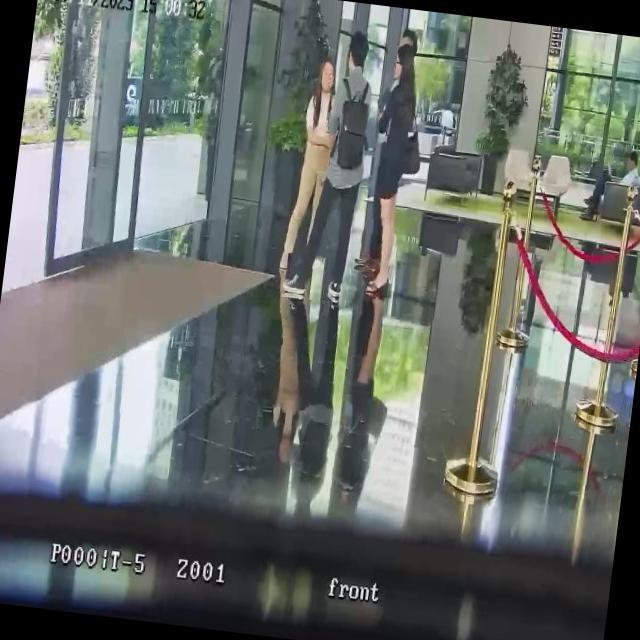person: (292, 25, 384, 312), (356, 42, 427, 300), (352, 26, 420, 274), (278, 52, 344, 294), (579, 146, 640, 229)
